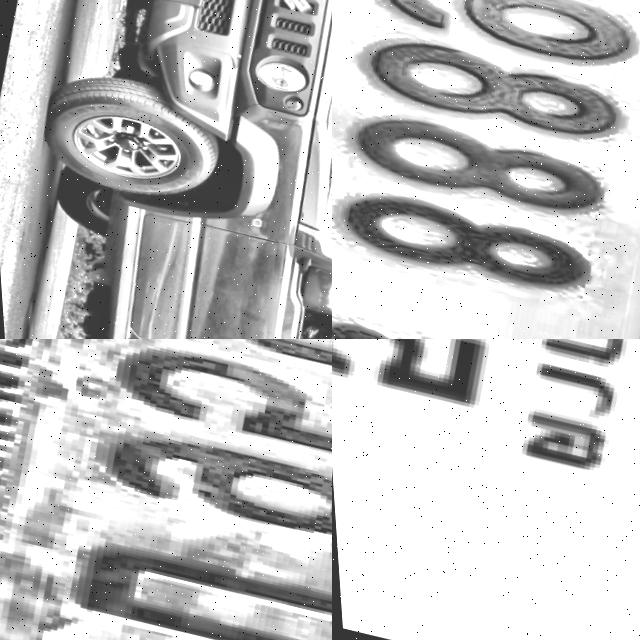license-plate: (332, 0, 640, 339), (0, 339, 332, 640), (332, 339, 640, 640)
